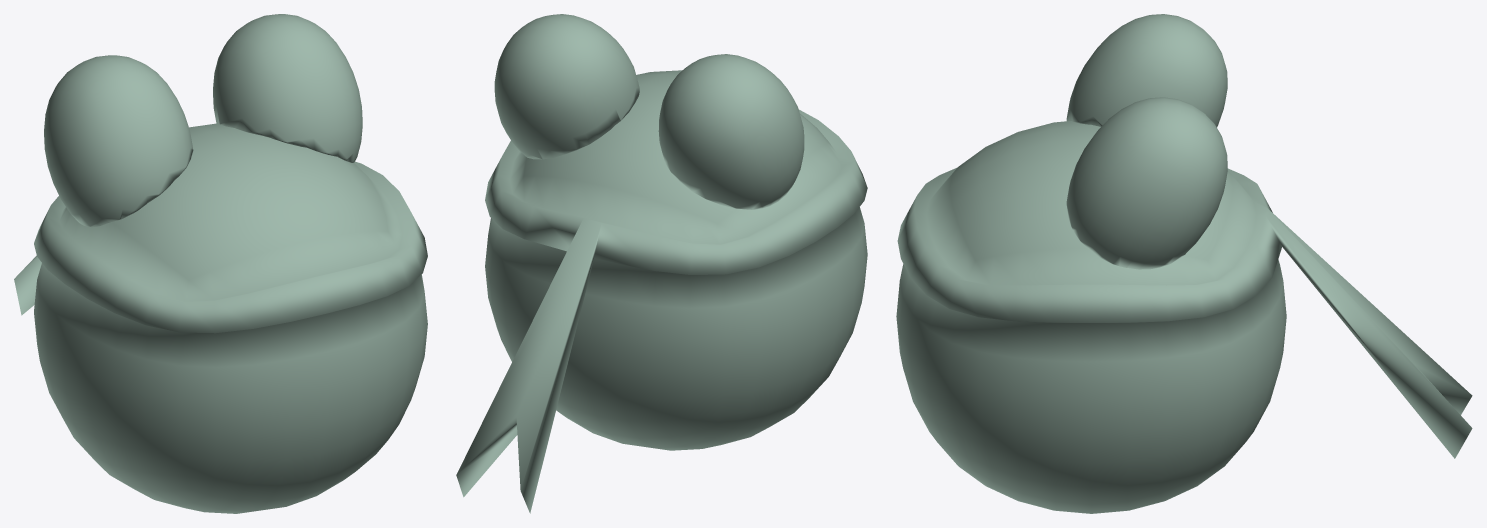
File: mod_player_head.fbx
The picture shows the model from 3 angles, left to right: view 1: azimuth 30°, elevation 25°; view 2: azimuth 150°, elevation 25°; view 3: azimuth 270°, elevation 25°; orthographic projection. The views are drawn at different scales.
Parts seen in each view (by area): view 1: head; view 2: head; view 3: head.
Boxes of the visible parts, x1=… form: head: x1=14, y1=14, x2=427, y2=513; head: x1=456, y1=14, x2=867, y2=513; head: x1=896, y1=14, x2=1472, y2=513.
Size of the model in its own units: 104 by 127 by 154.
